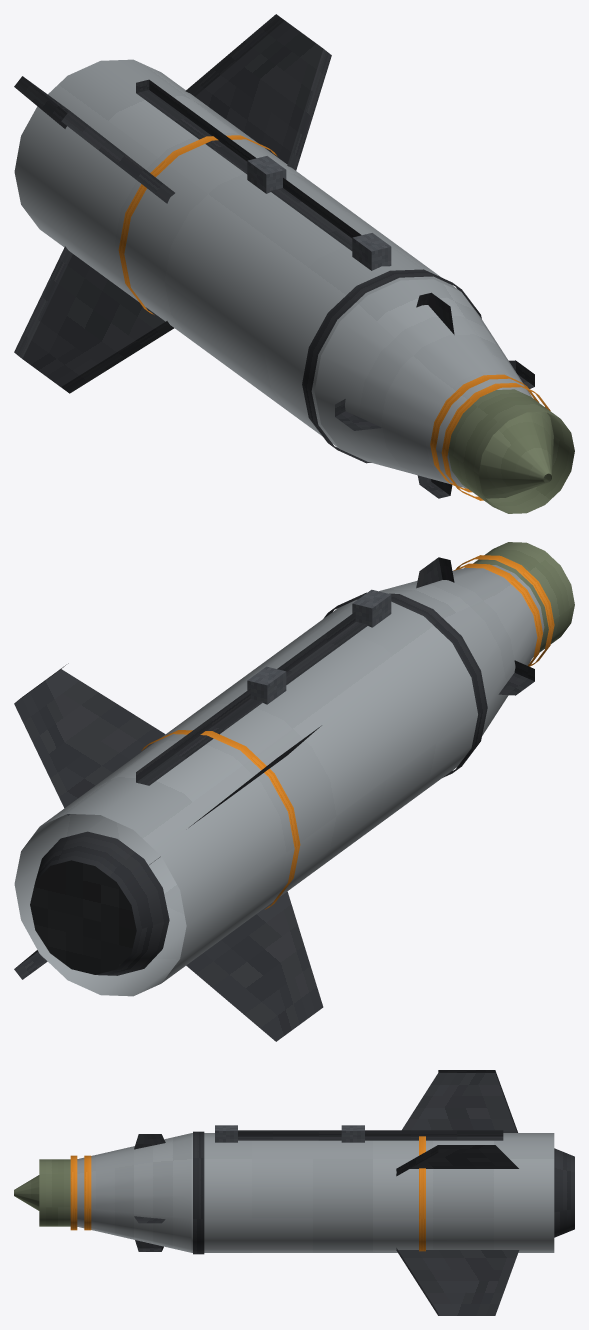
The model's file is missile_tactical_thermobaric.glb.
3 renders of one model, top to bottom at view 1: azimuth 30°, elevation 25°; view 2: azimuth 150°, elevation 25°; view 3: azimuth 270°, elevation 25°, orthographic. The views are drawn at different scales.
Parts seen in each view (by area): view 1: body; view 2: body; view 3: body.
Boxes of the visible parts, x1,y1,x2,y2 form: body: [14, 14, 574, 513]; body: [14, 542, 574, 1041]; body: [14, 1070, 574, 1315].
Size of the model in its own units: 0.8174 by 0.8174 by 2.43.
Materials: 1 (1 with a texture image).
